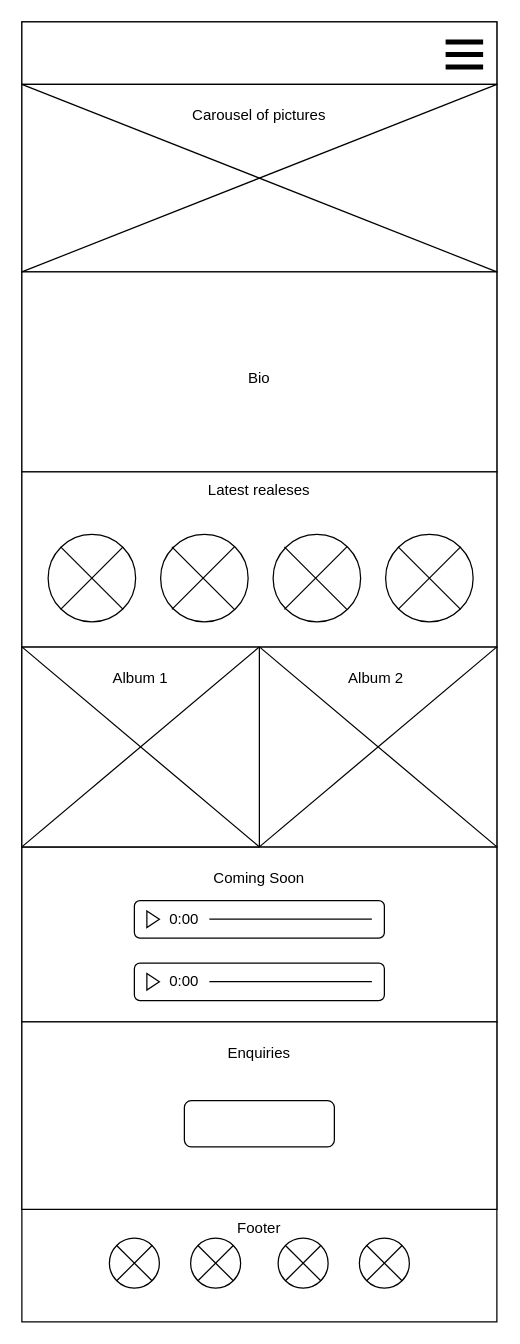
Image size: 520x1344. Some labels were removed from this diagram. The centre of each missing label's shape, as x and y in pixels:
Contact Us: [258,1123]
Shola Victor-Sajowa: [259,52]
